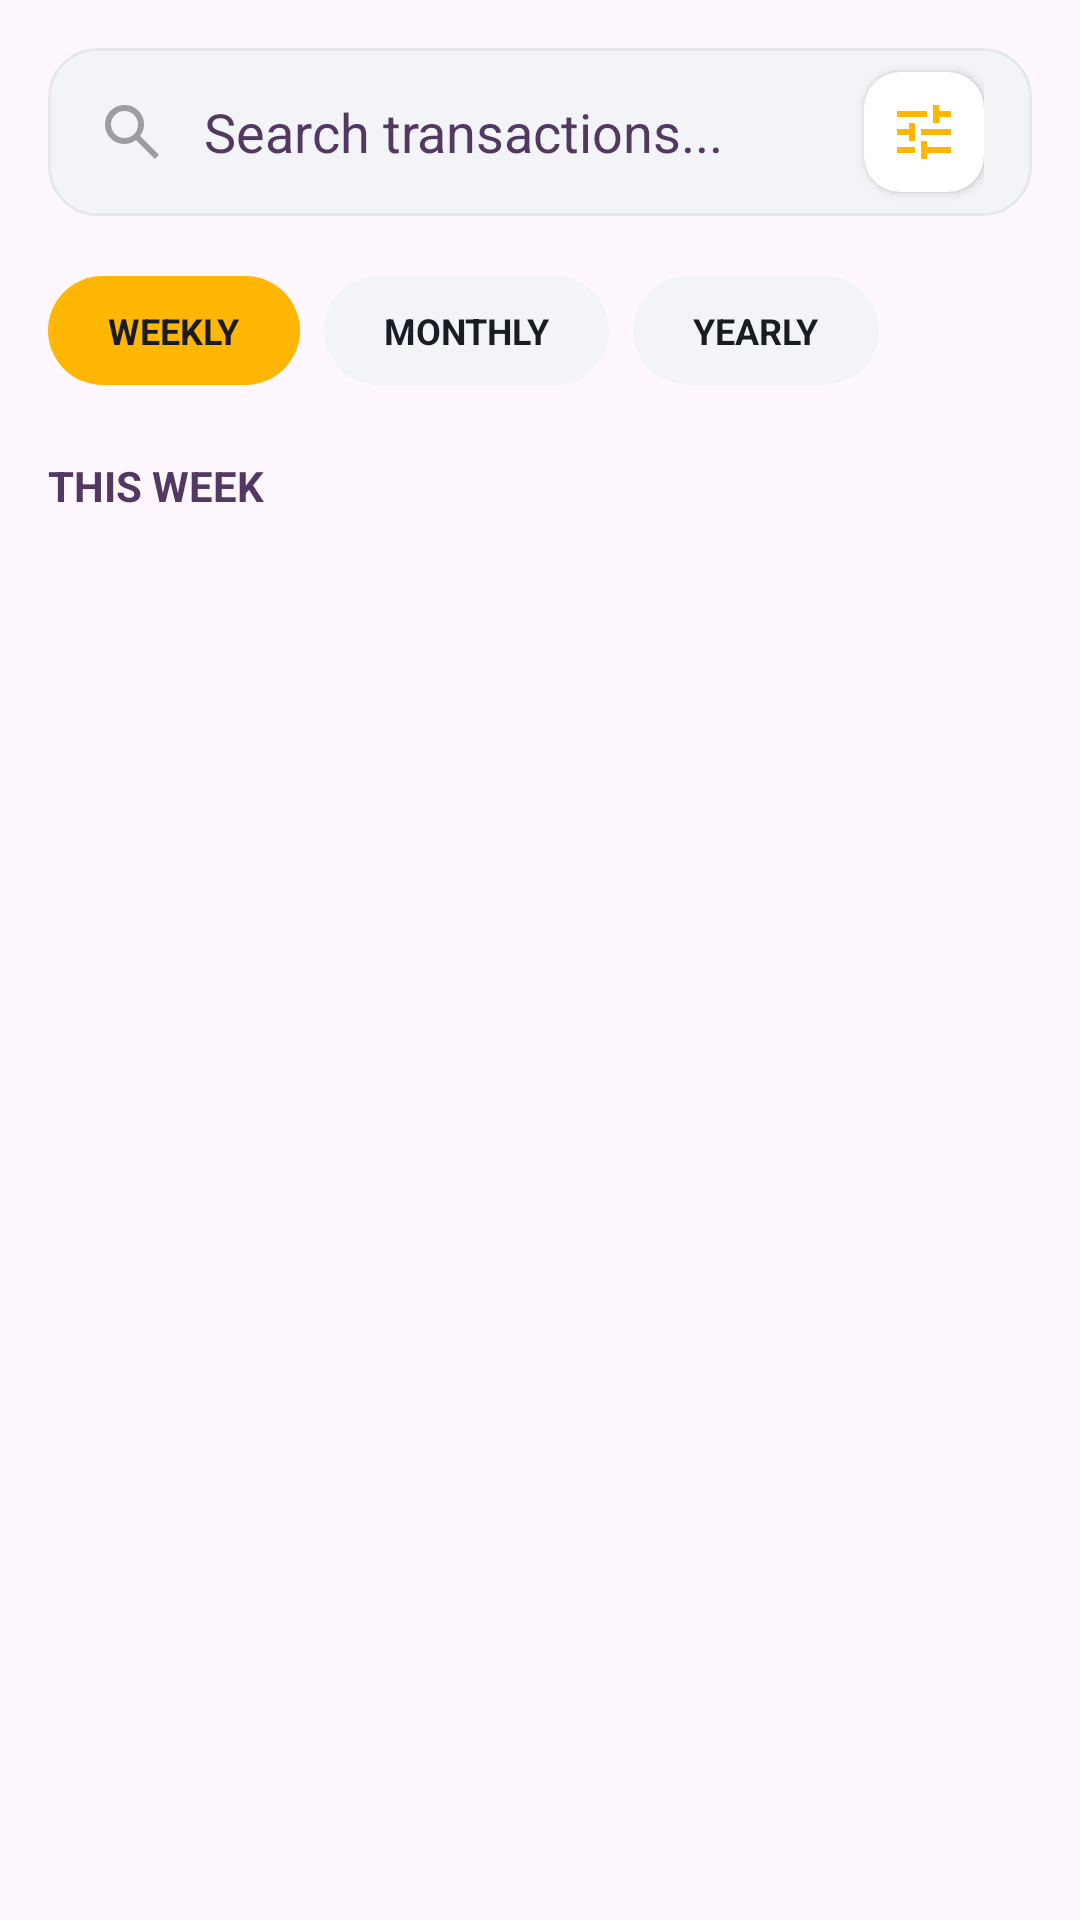

Named icons in this screenshot (1080 × 1920) and their centers, (x=x, y=y):
tune: (x=924, y=132)
